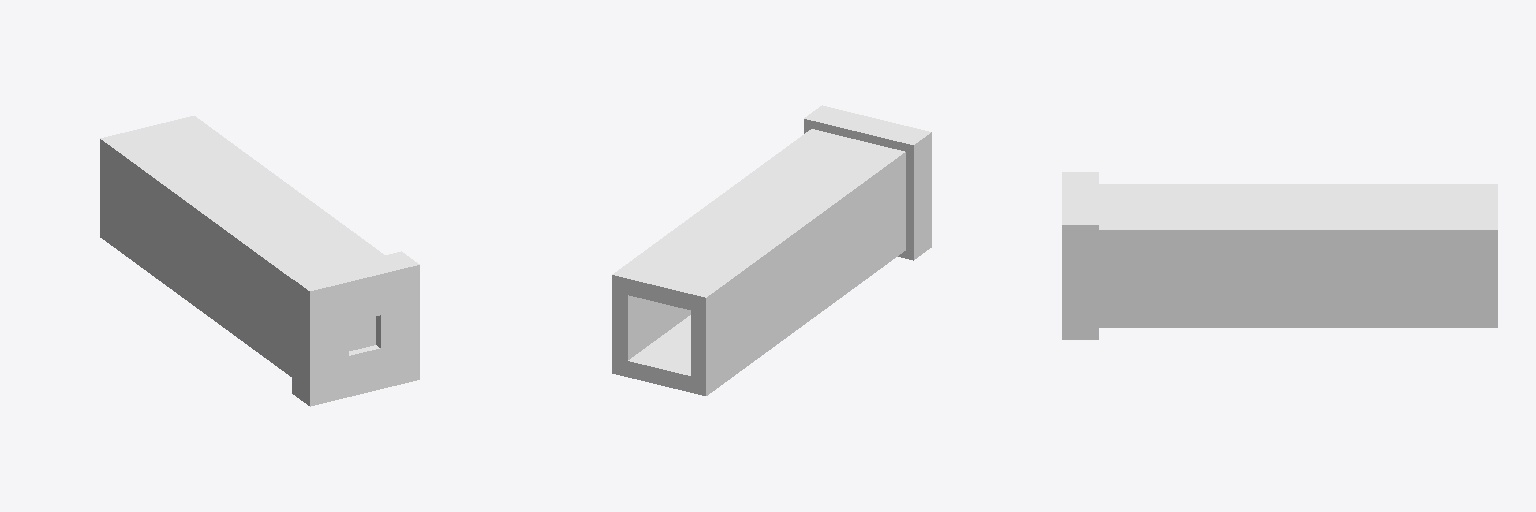
Rendered from ShotganCasings.obj.
The picture shows the model from 3 angles: view 1: azimuth 30°, elevation 25°; view 2: azimuth 150°, elevation 25°; view 3: azimuth 270°, elevation 25°; orthographic projection.
Parts seen in each view (by area): view 1: object 1; view 2: object 1; view 3: object 1.
Boxes of the visible parts, <box> form: object 1: <box>100,116,419,406</box>; object 1: <box>612,105,931,395</box>; object 1: <box>1062,172,1497,339</box>.
Size of the model in its own units: 1.4 by 1.4 by 4.8.